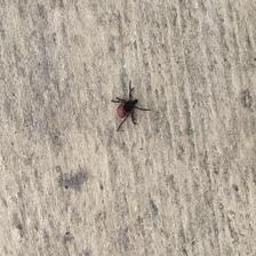Ixodes scapularis: (109, 81, 151, 131)
